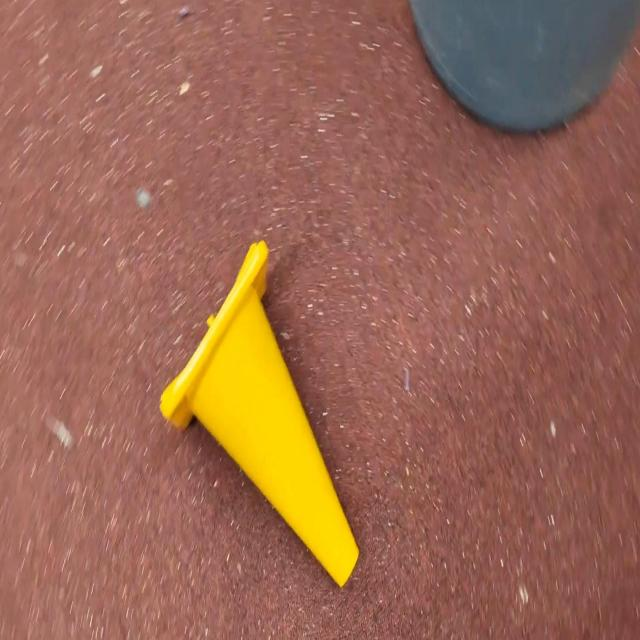frc_cone: (157, 237, 361, 593)
